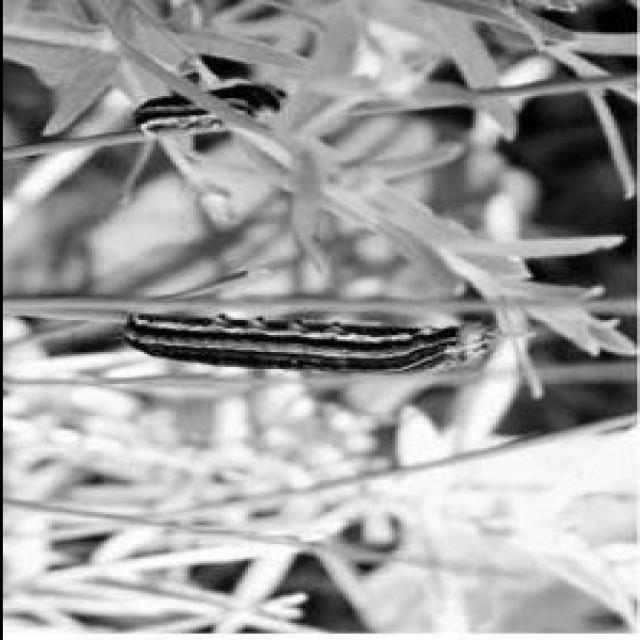army worm: (115, 305, 498, 375), (139, 78, 295, 137)
